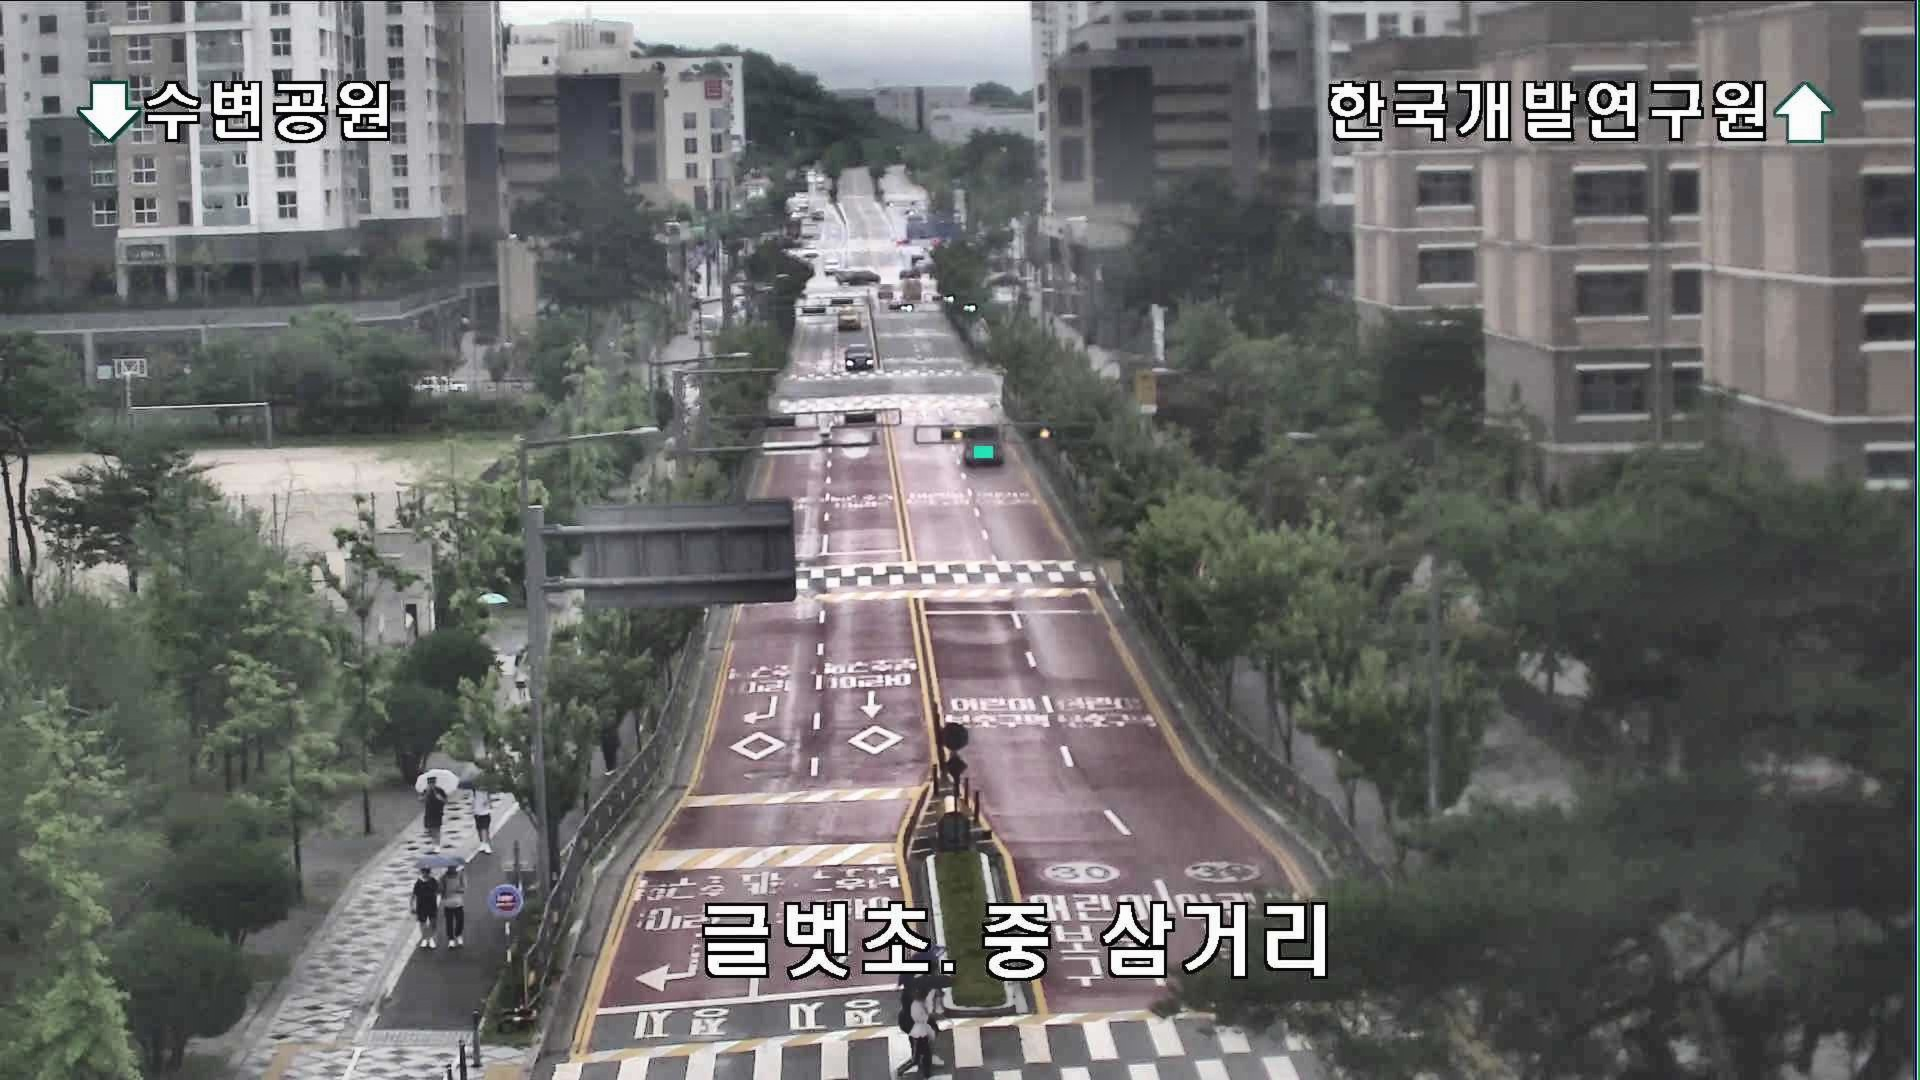um_crosswalk: (898, 965, 953, 1080)
um_sidewalk: (414, 766, 462, 847), (439, 849, 472, 949), (404, 855, 436, 949), (464, 770, 496, 847)
